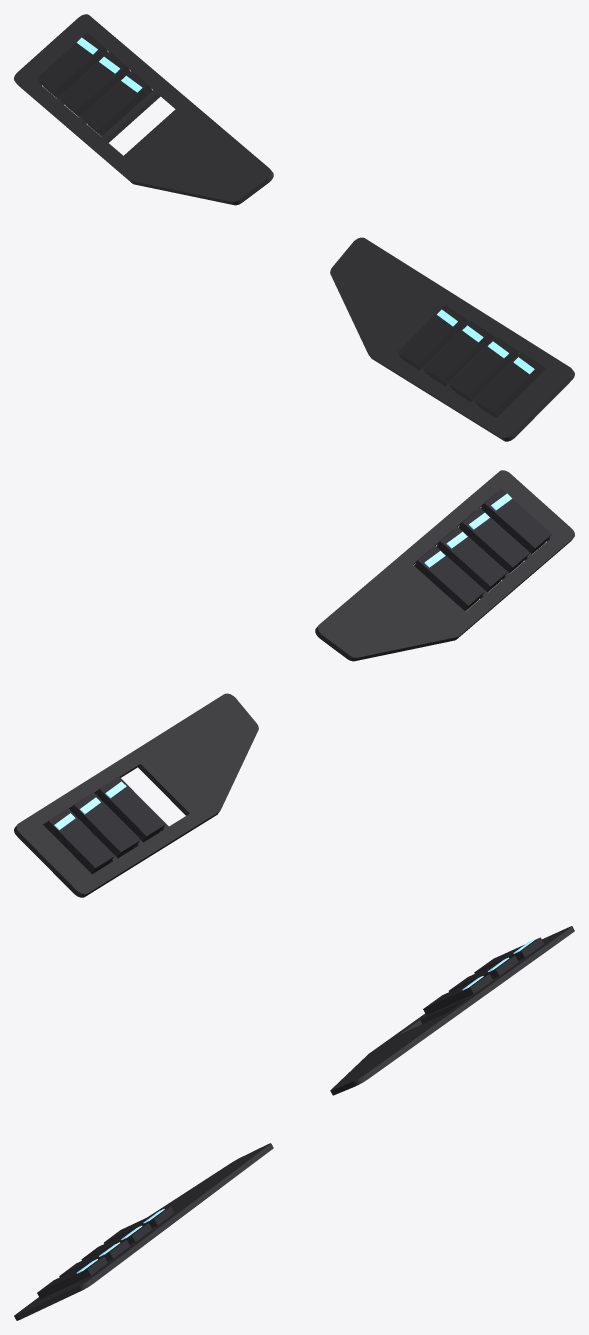
Rendered from lux-switches-420s.glb.
3 renders of one model, top to bottom at view 1: azimuth 30°, elevation 25°; view 2: azimuth 150°, elevation 25°; view 3: azimuth 330°, elevation 25°, orthographic.
Parts seen in each view (by area): view 1: xs_lux_switch_plates, xs_lux_switches, xs_lux_switch_leds; view 2: xs_lux_switch_plates, xs_lux_switches, xs_lux_switch_leds; view 3: xs_lux_switch_plates, xs_lux_switches.
Part boxes in pixels (box(x1,y1,x2,y2)): xs_lux_switch_plates: box(14, 14, 574, 441); xs_lux_switches: box(37, 33, 544, 417); xs_lux_switch_leds: box(77, 37, 534, 374); xs_lux_switch_plates: box(14, 470, 574, 897); xs_lux_switches: box(44, 489, 551, 874); xs_lux_switch_leds: box(54, 493, 511, 830); xs_lux_switch_plates: box(14, 926, 574, 1320); xs_lux_switches: box(37, 937, 543, 1299).
Bounding box in the file's own units: 0.0526 × 0.0368 × 0.5421.
